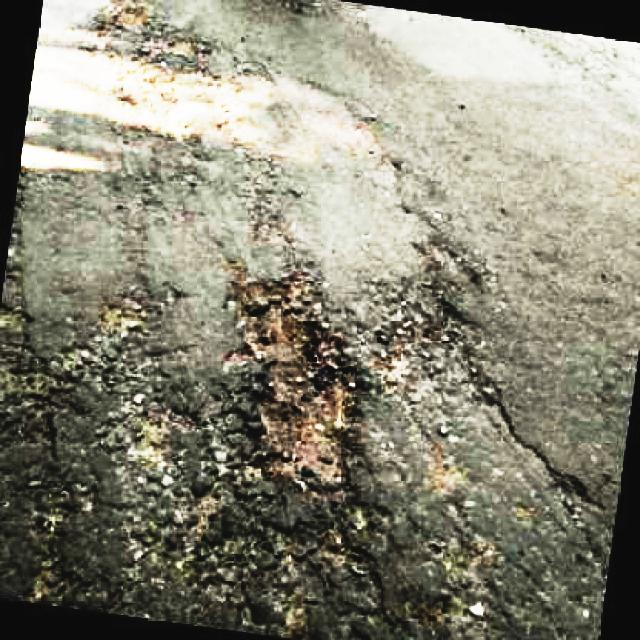pothole: (223, 257, 363, 508), (159, 520, 423, 640), (374, 232, 498, 423), (85, 0, 202, 134)
